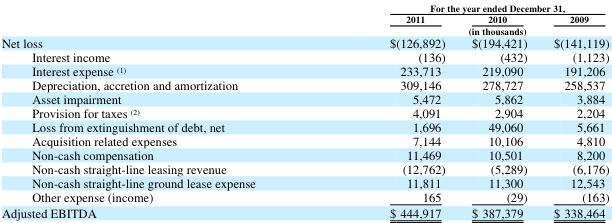table: (0, 1, 608, 220)
table column: (0, 1, 321, 220), (321, 1, 457, 220), (457, 1, 539, 220), (539, 1, 608, 220)
table column header: (0, 1, 608, 35)
table row: (0, 203, 608, 220), (0, 188, 608, 203), (0, 48, 608, 62), (0, 62, 608, 76), (0, 76, 608, 90), (0, 90, 608, 104), (0, 104, 608, 118), (0, 118, 608, 132), (0, 132, 608, 146), (0, 146, 608, 160), (0, 160, 608, 174), (0, 174, 608, 188), (0, 35, 608, 48), (0, 1, 608, 13), (0, 13, 608, 24), (0, 24, 608, 35)
table spanning cell: (321, 1, 608, 13), (321, 24, 608, 35)
